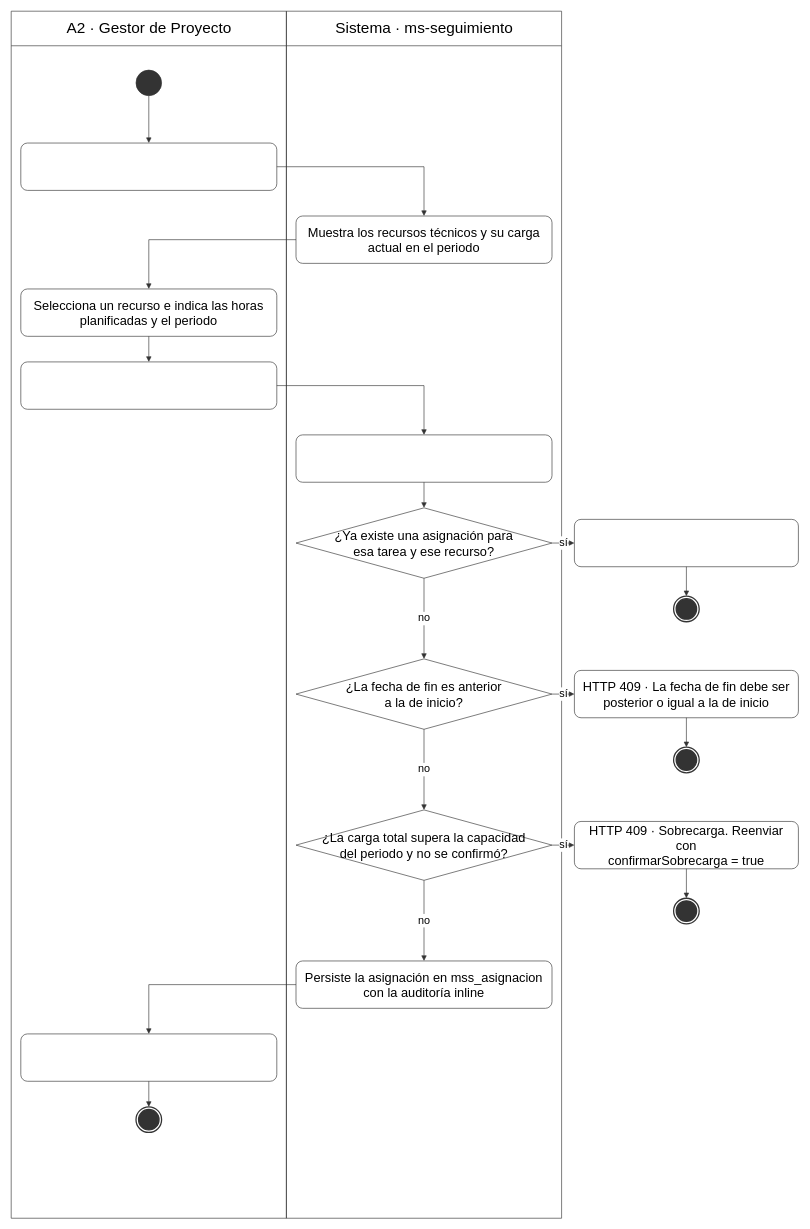
This 810x1229 diagram has some shape labels left out. Here are the shapes that lost their labels. From the top down, the centre of each, then its label:
At (x=148, y=166): "Accede a «Planificación» y selecciona el proyecto y la tarea".
At (x=148, y=385): "Pulsa «Asignar»".
At (x=423, y=458): "Recibe POST /api/asignaciones".
At (x=686, y=543): "HTTP 409 · Ya existe una asignación para esa tarea y ese recurso".
At (x=148, y=1057): "El sistema confirma la operación y actualiza la vista de carga".
